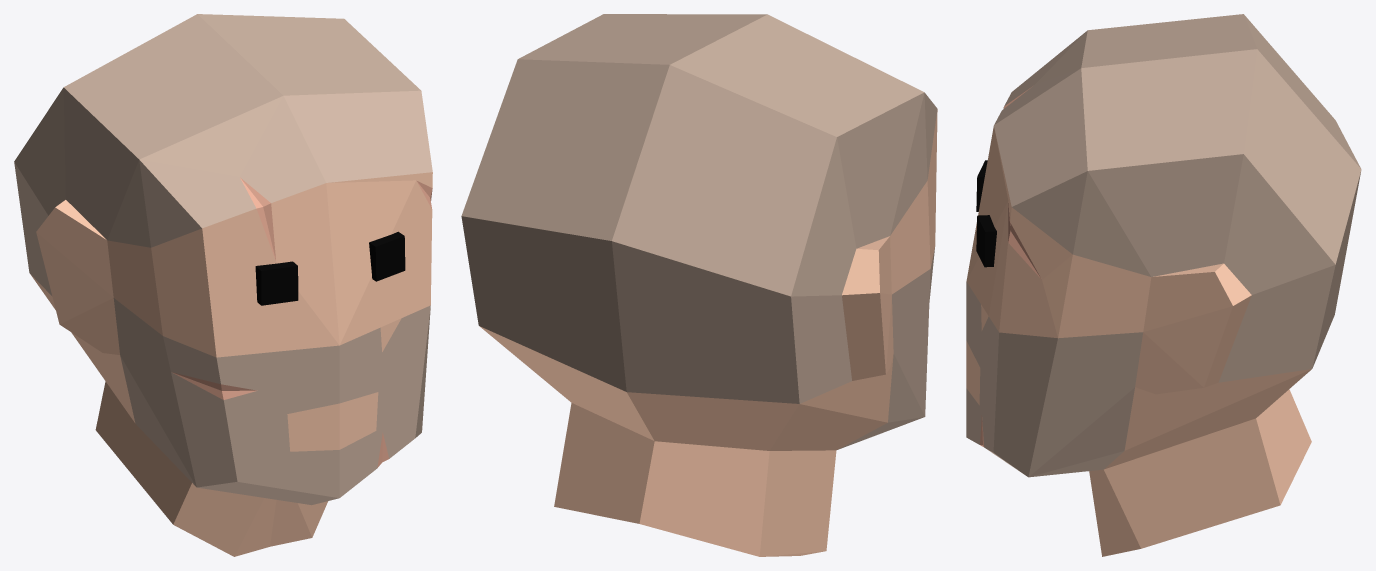
File: Chr_Head_Male_04_Static.fbx
3 renders of one model, left to right at view 1: azimuth 30°, elevation 25°; view 2: azimuth 150°, elevation 25°; view 3: azimuth 270°, elevation 25°, orthographic. The views are drawn at different scales.
Visible parts, largest first — view 1: Chr_Head_Male_04_Static; view 2: Chr_Head_Male_04_Static; view 3: Chr_Head_Male_04_Static.
Part boxes in pixels (bbox=[...]): Chr_Head_Male_04_Static: bbox=[14, 14, 432, 556]; Chr_Head_Male_04_Static: bbox=[461, 14, 937, 556]; Chr_Head_Male_04_Static: bbox=[966, 14, 1361, 556].
Size of the model in its own units: 0.2661 by 0.3523 by 0.2574.
